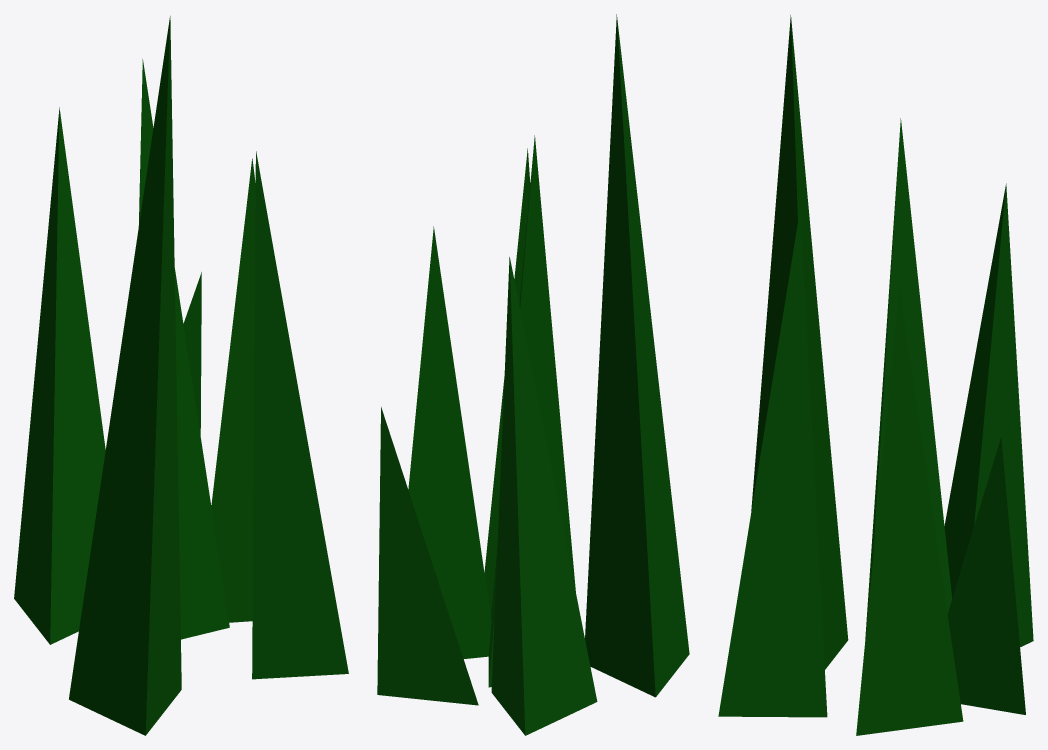
The model's file is grass04.glb.
3 renders of one model, left to right at view 1: azimuth 30°, elevation 25°; view 2: azimuth 150°, elevation 25°; view 3: azimuth 270°, elevation 25°, orthographic. The views are drawn at different scales.
Visible parts, largest first — view 1: Cone; view 2: Cone; view 3: Cone.
Part boxes in pixels (x1=…): Cone: x1=14, y1=16, x2=348, y2=735; Cone: x1=377, y1=14, x2=689, y2=735; Cone: x1=718, y1=15, x2=1033, y2=735.
Bounding box in the file's own units: 4.24 × 11.43 × 4.95.
